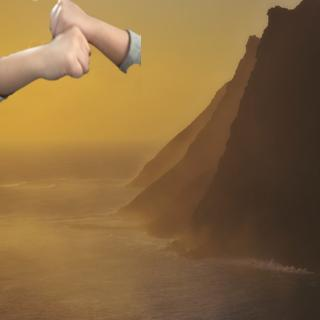CAREFUL: (9, 1, 130, 80)
